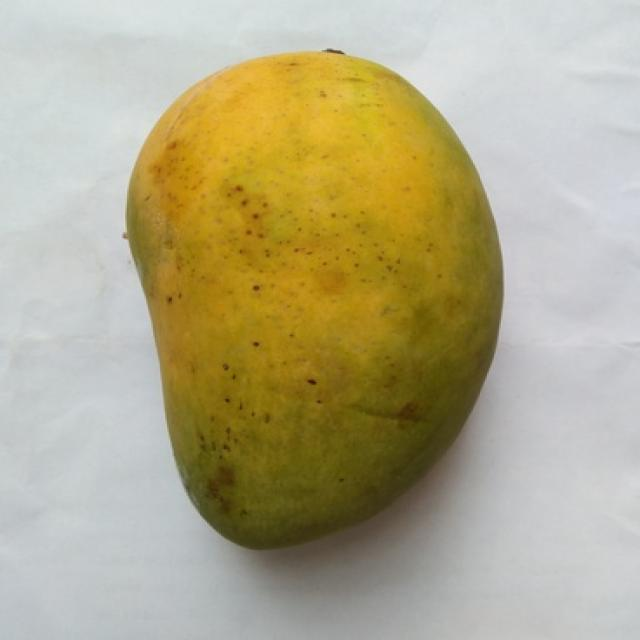Mango: (129, 53, 501, 547)
